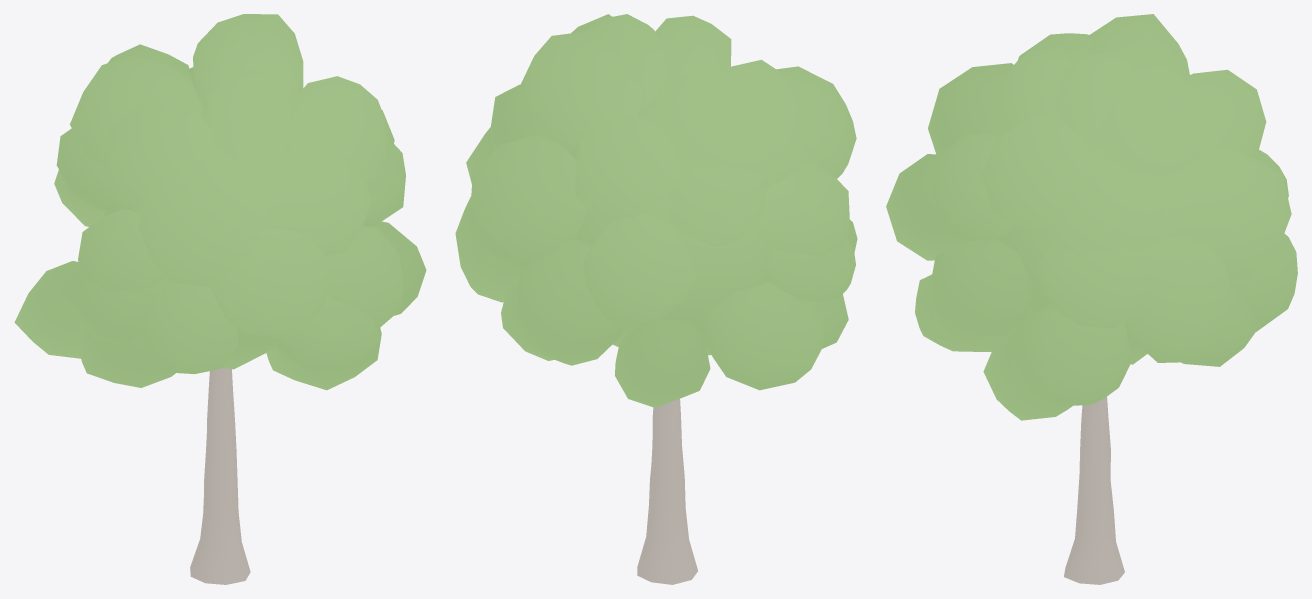
Rendered from Blender_LakeSugarMaple_2.glb.
The picture shows the model from 3 angles, left to right: view 1: azimuth 30°, elevation 25°; view 2: azimuth 150°, elevation 25°; view 3: azimuth 270°, elevation 25°; orthographic projection. The views are drawn at different scales.
Parts seen in each view (by area): view 1: Blender_LakeSugarMaple_2; view 2: Blender_LakeSugarMaple_2; view 3: Blender_LakeSugarMaple_2.
Part boxes in pixels (x1,y1,x2,y2): Blender_LakeSugarMaple_2: (14,14,426,584); Blender_LakeSugarMaple_2: (455,14,857,584); Blender_LakeSugarMaple_2: (886,14,1297,584).
Bounding box in the file's own units: 13.93 × 19.61 × 13.69.
